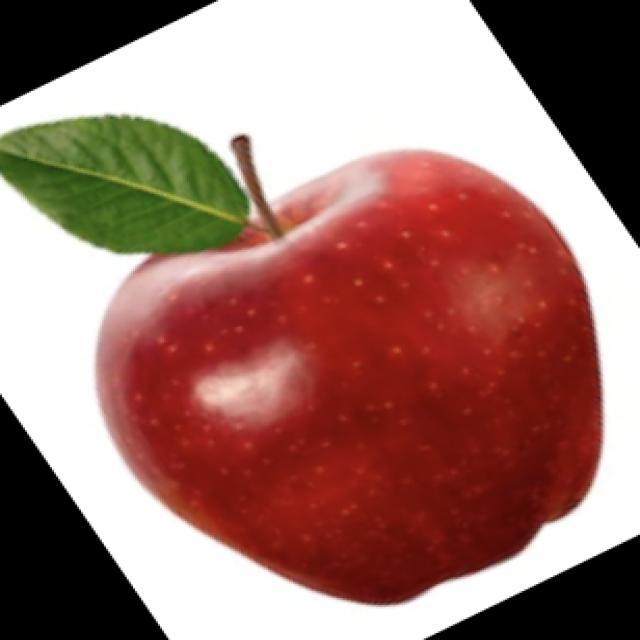Fresh Apple: (105, 158, 607, 597)
